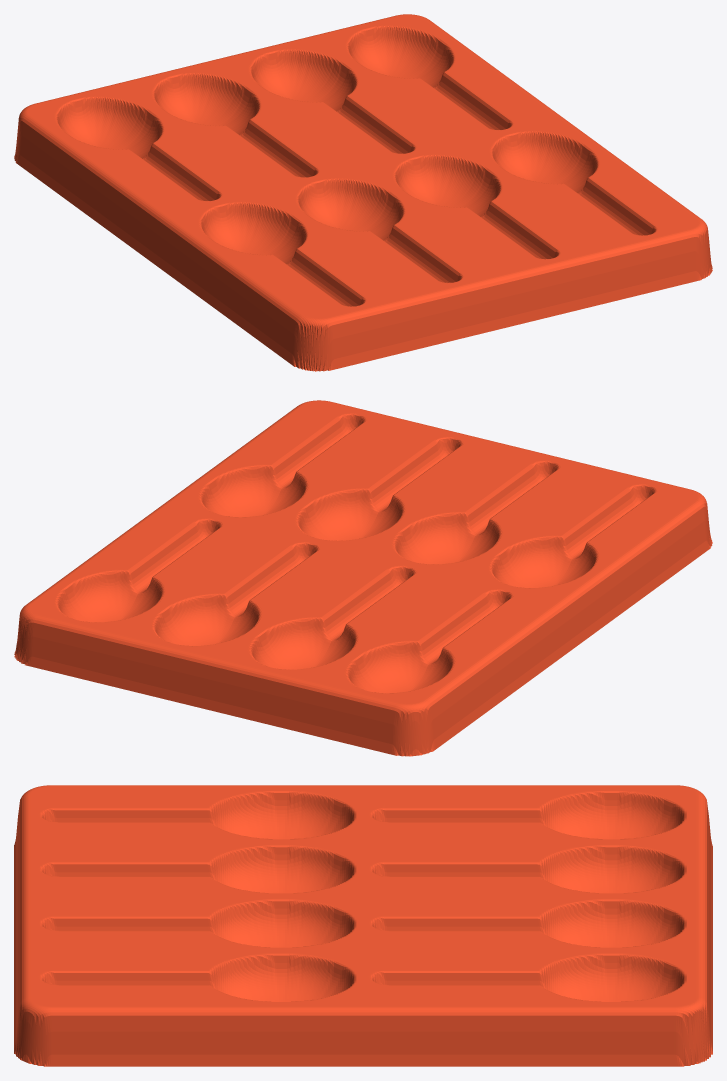
File: mold.glb
3 renders of one model, top to bottom at view 1: azimuth 30°, elevation 25°; view 2: azimuth 150°, elevation 25°; view 3: azimuth 270°, elevation 25°, orthographic. The views are drawn at different scales.
Parts seen in each view (by area): view 1: geometry_0; view 2: geometry_0; view 3: geometry_0.
Boxes of the visible parts, x1,y1,x2,y2 form: geometry_0: (14,14,712,371); geometry_0: (14,400,712,756); geometry_0: (14,785,712,1066).
Size of the model in its own units: 0.1355 by 0.0145 by 0.1715.
